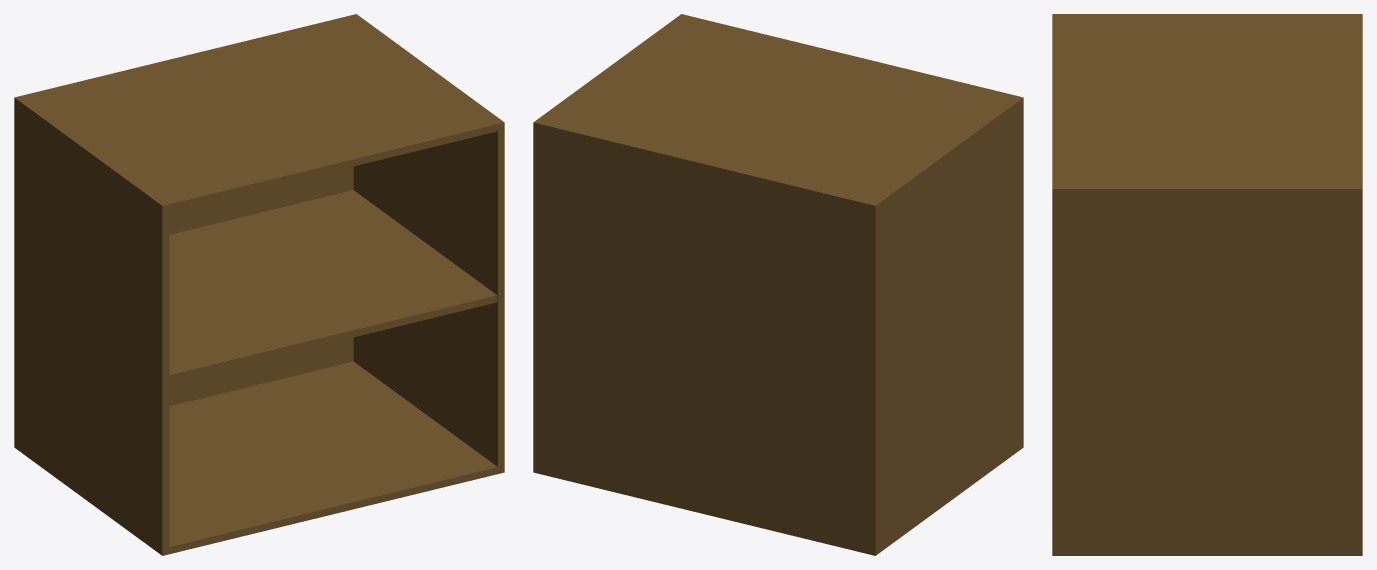
The model's file is cabinet.glb.
The picture shows the model from 3 angles, left to right: view 1: azimuth 30°, elevation 25°; view 2: azimuth 150°, elevation 25°; view 3: azimuth 270°, elevation 25°; orthographic projection. The views are drawn at different scales.
Visible parts, largest first — view 1: Object_2, Object_3; view 2: Object_2, Object_3; view 3: Object_2, Object_3.
Part boxes in pixels (x1=…): Object_2: x1=14, y1=16, x2=497, y2=555; Object_3: x1=14, y1=14, x2=504, y2=555; Object_2: x1=536, y1=15, x2=1023, y2=555; Object_3: x1=533, y1=14, x2=1023, y2=555; Object_2: x1=1052, y1=15, x2=1362, y2=555; Object_3: x1=1052, y1=14, x2=1362, y2=188.
Size of the model in its own units: 34.83 by 34.05 by 26.12.
